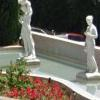Statue: (10, 1, 47, 65)
